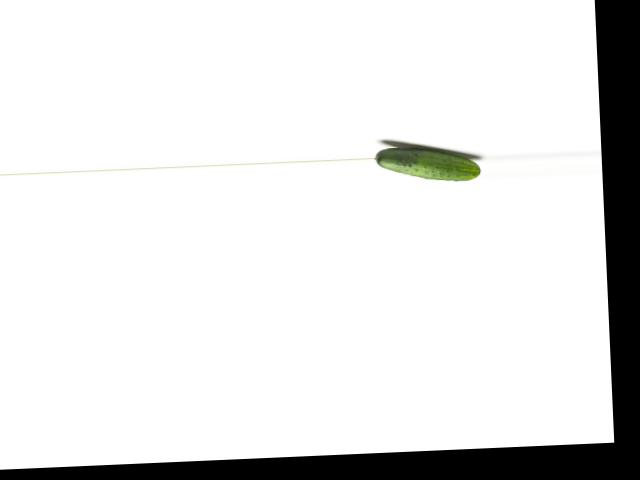cucumber: (373, 143, 480, 184)
